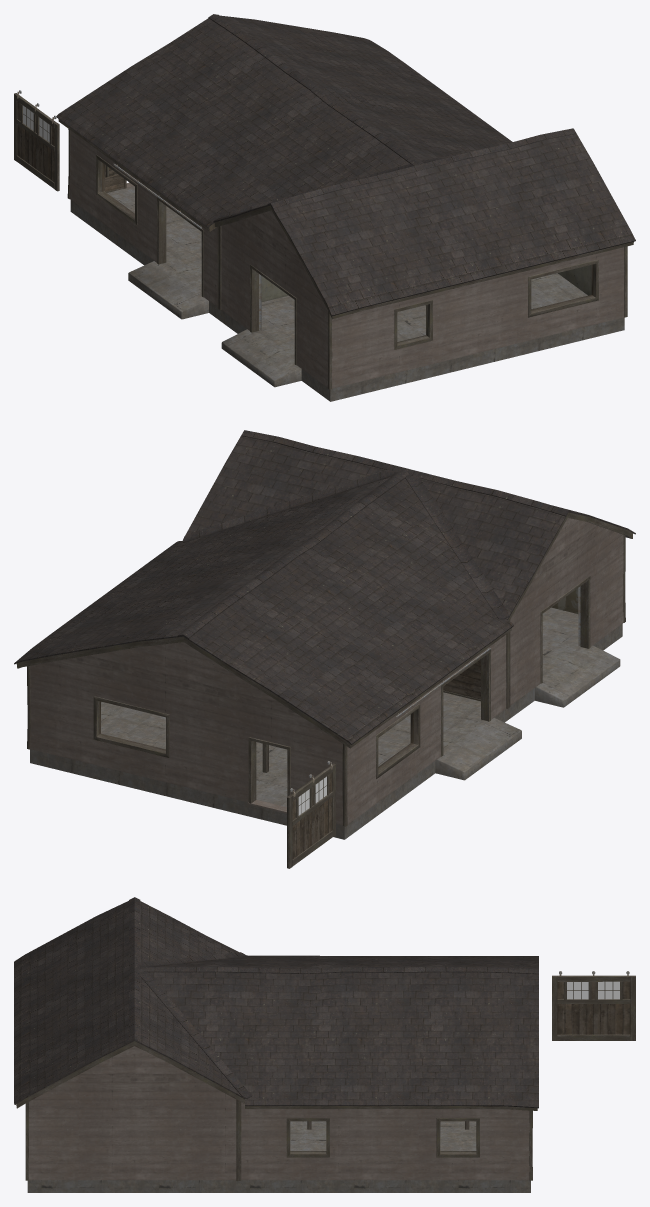
Rendered from friday_the_13th_storage_main_house.glb.
The picture shows the model from 3 angles, top to bottom: view 1: azimuth 30°, elevation 25°; view 2: azimuth 150°, elevation 25°; view 3: azimuth 270°, elevation 25°; orthographic projection. The views are drawn at different scales.
Parts seen in each view (by area): view 1: Storage_Main_01, Storage_Main_DoorSliding_01; view 2: Storage_Main_01, Storage_Main_DoorSliding_01; view 3: Storage_Main_01, Storage_Main_DoorSliding_01.
Part boxes in pixels (left/top/right/bottom): Storage_Main_01: left=56, top=14, right=635, bottom=401; Storage_Main_DoorSliding_01: left=14, top=90, right=59, bottom=191; Storage_Main_01: left=14, top=430, right=635, bottom=839; Storage_Main_DoorSliding_01: left=287, top=761, right=335, bottom=868; Storage_Main_01: left=14, top=897, right=538, bottom=1192; Storage_Main_DoorSliding_01: left=552, top=971, right=635, bottom=1040.
Size of the model in its own units: 32.7 by 15.23 by 54.68.
11 materials, 10 textured.
